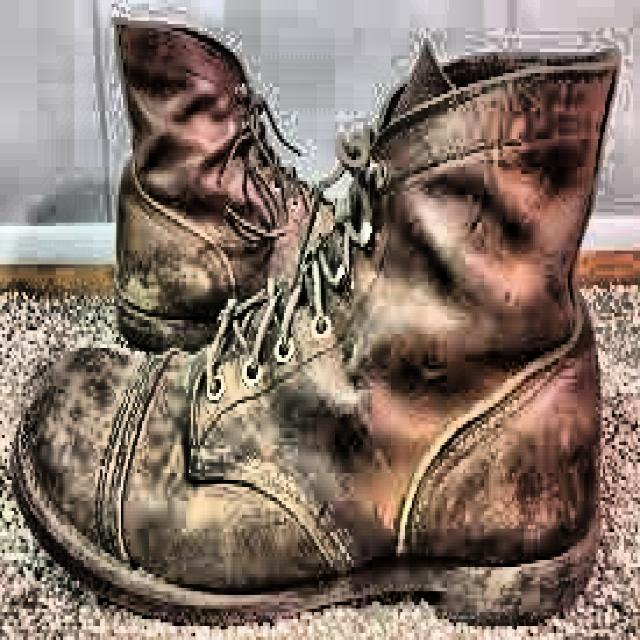shoes: (12, 17, 616, 617)
